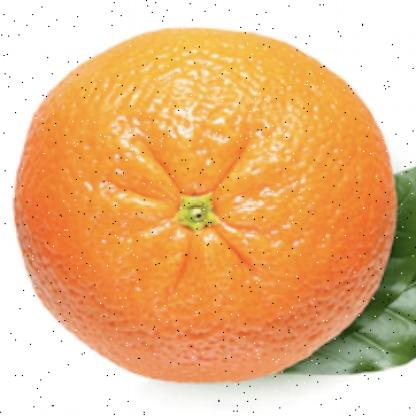orange: (8, 18, 403, 389)
